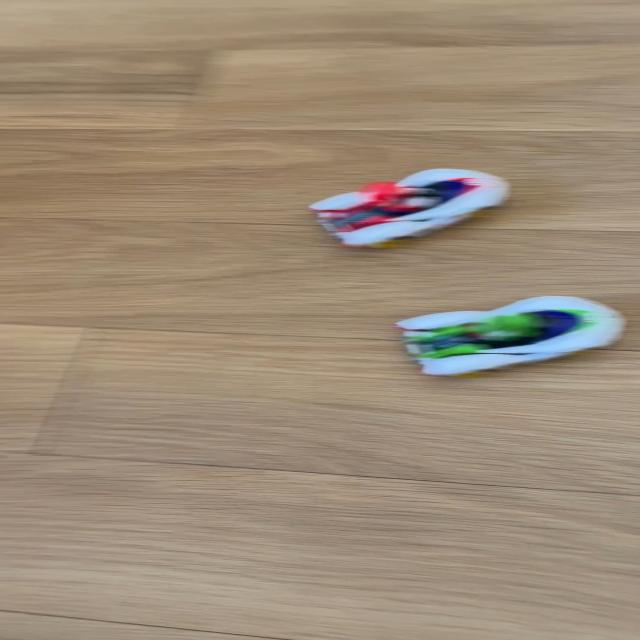mario: (303, 169, 534, 256)
yoshi: (382, 290, 638, 385)
